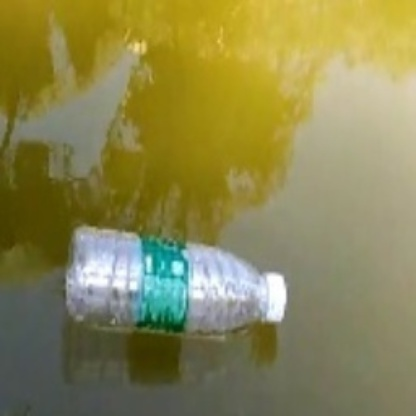bottle: (64, 215, 292, 345)
